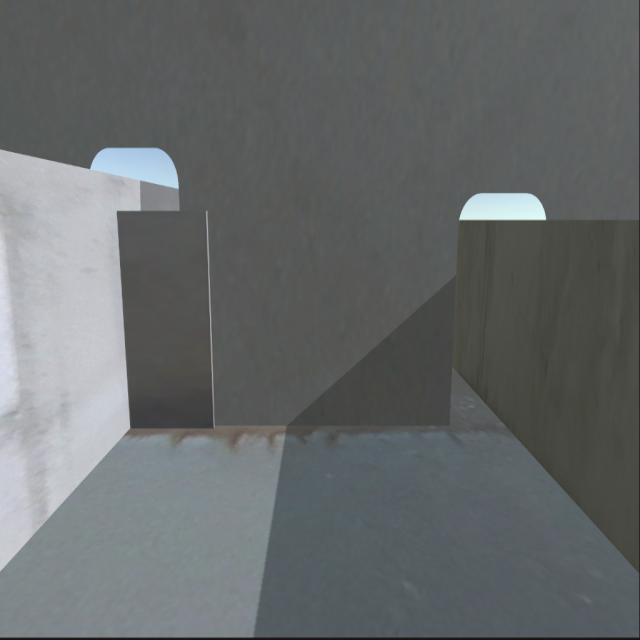fillet_yong_jeop_jang: (133, 421, 451, 435)
longi_yong_jeop_jang: (111, 208, 136, 437)
plate_CP01: (128, 209, 210, 433)
